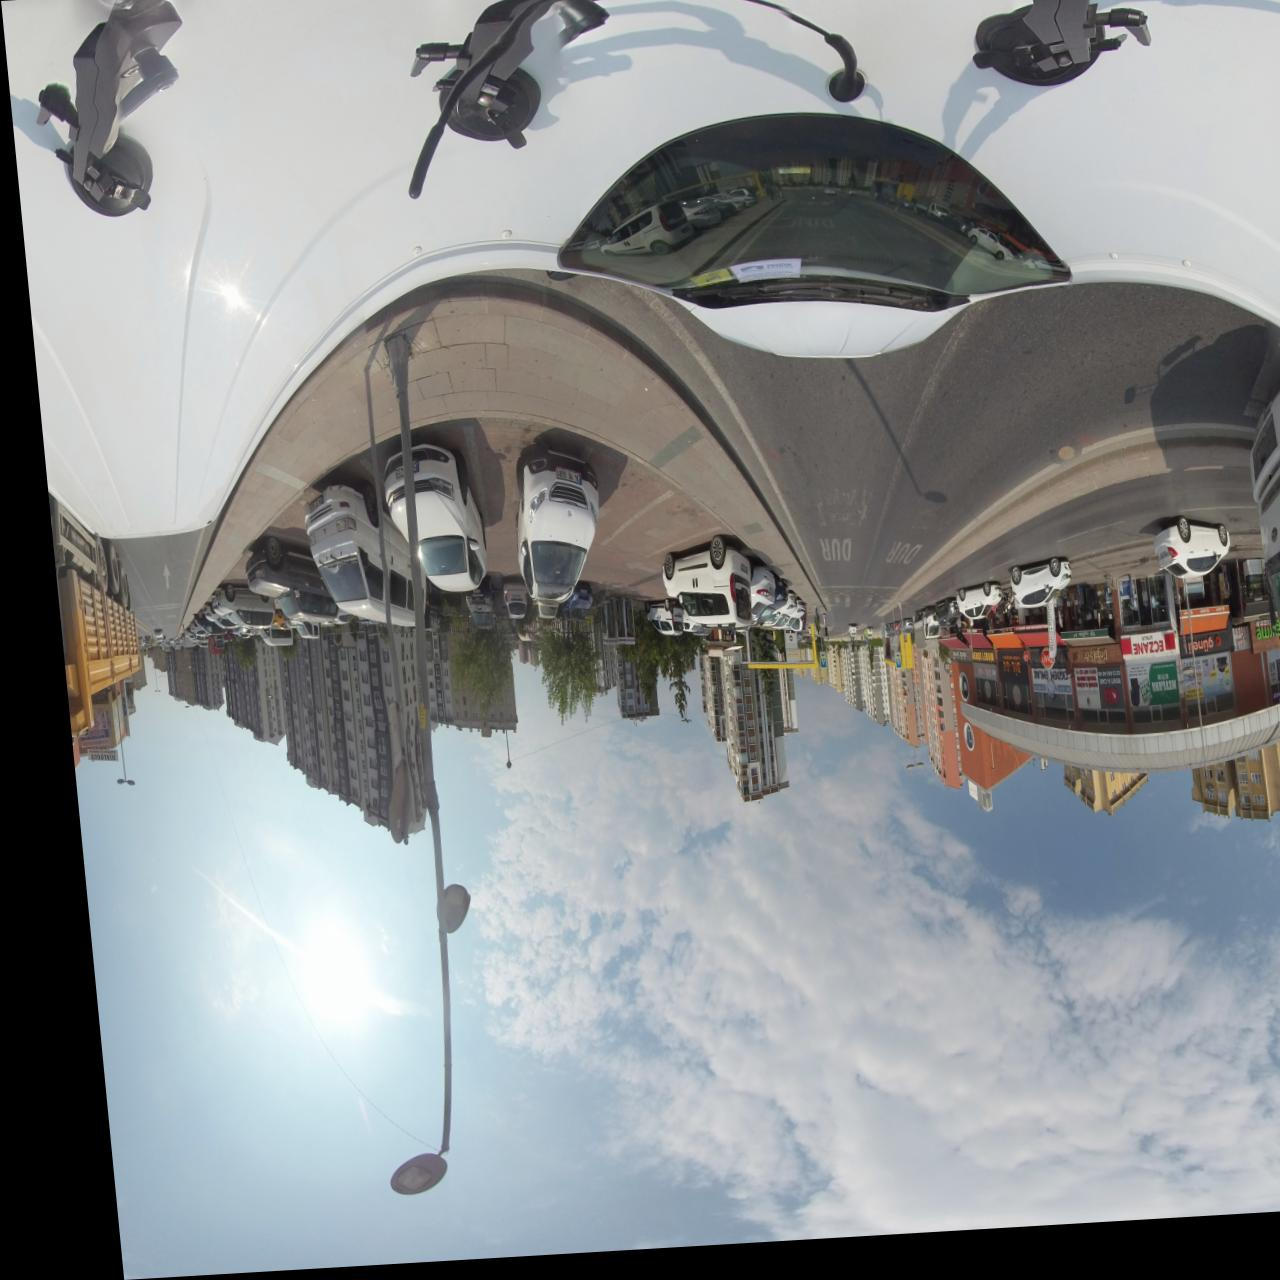SignStore: (1104, 642, 1160, 672), (1053, 655, 1107, 679), (1235, 634, 1271, 668), (981, 661, 1013, 697), (1177, 645, 1213, 669), (1014, 659, 1048, 680), (1255, 699, 1280, 720), (1217, 640, 1235, 665), (958, 674, 981, 692), (955, 660, 980, 675), (933, 659, 956, 673), (1164, 651, 1177, 672)
